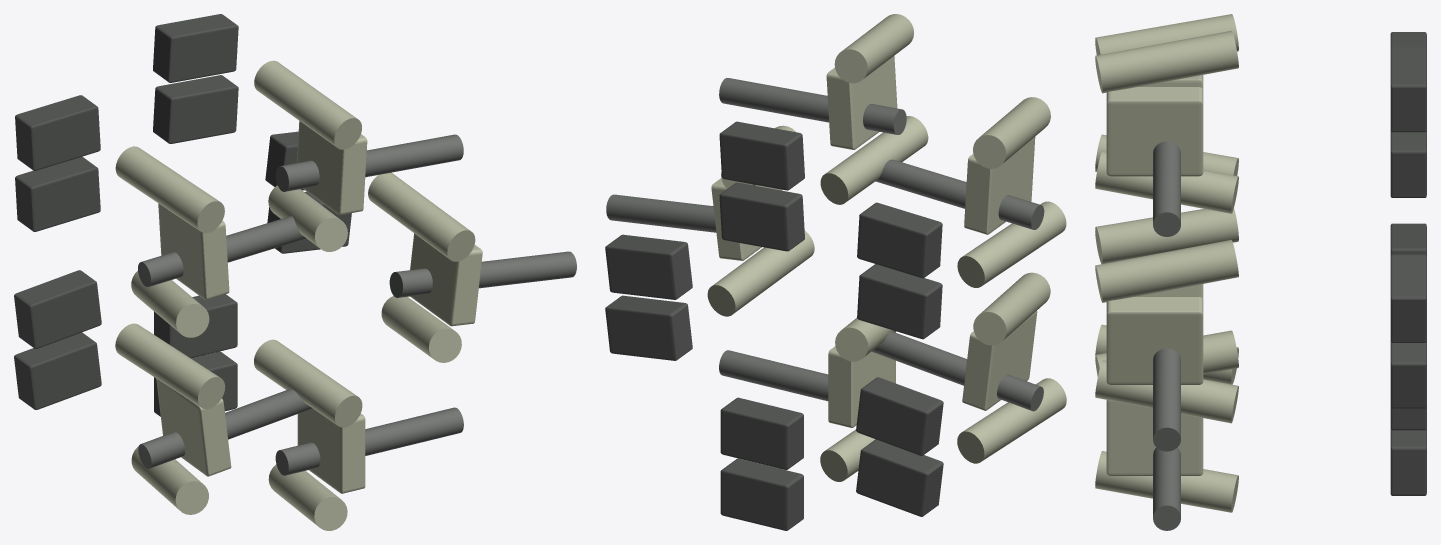
The model's file is v-u01-vanguard-line-infantry-lod2.glb.
3 renders of one model, left to right at view 1: azimuth 30°, elevation 25°; view 2: azimuth 150°, elevation 25°; view 3: azimuth 270°, elevation 25°, orthographic. The views are drawn at different scales.
Visible parts, largest first — view 1: soldier_4_boot_1, soldier_3_boot_1, soldier_3_boot_-1, soldier_1_boot_1, soldier_1_boot_-1, soldier_4_boot_-1, soldier_4_arm_1, soldier_3_arm_1, soldier_1_arm_1, soldier_0_arm_1, soldier_2_arm_1, soldier_4_chest (+18 smaller); view 2: soldier_4_boot_1, soldier_3_boot_1, soldier_2_boot_-1, soldier_2_boot_1, soldier_3_boot_-1, soldier_1_boot_-1, soldier_1_boot_1, soldier_4_boot_-1, soldier_0_boot_1, soldier_0_boot_-1, soldier_1_rifle, soldier_4_chest (+17 smaller); view 3: soldier_1_chest, soldier_0_chest, soldier_1_arm_1, soldier_0_arm_1, soldier_2_chest, soldier_4_arm_1, soldier_0_arm_-1, soldier_1_arm_-1, soldier_0_boot_1, soldier_2_arm_-1, soldier_1_boot_1, soldier_0_rifle (+14 smaller).
Boxes of the visible parts, x1,y1,x2,y2 form: soldier_4_boot_1: (14,270,101,348); soldier_3_boot_1: (15,95,100,170); soldier_3_boot_-1: (15,156,100,231); soldier_1_boot_1: (153,14,238,82); soldier_1_boot_-1: (153,75,238,143); soldier_4_boot_-1: (14,332,101,409); soldier_4_arm_1: (115,323,225,409); soldier_3_arm_1: (115,146,224,233); soldier_1_arm_1: (254,60,361,149); soldier_0_arm_1: (368,172,475,261); soldier_2_arm_1: (254,339,362,427); soldier_4_chest: (156,379,231,476); soldier_4_boot_1: (856,377,943,455); soldier_3_boot_1: (857,202,942,278); soldier_2_boot_-1: (720,458,803,530); soldier_2_boot_1: (720,397,803,469); soldier_3_boot_-1: (857,264,942,339); soldier_1_boot_-1: (719,182,804,251); soldier_1_boot_1: (719,121,804,190); soldier_4_boot_-1: (856,439,943,516); soldier_0_boot_1: (605,234,692,299); soldier_0_boot_-1: (605,295,692,360); soldier_1_rifle: (719,78,906,134); soldier_4_chest: (962,311,1037,410); soldier_1_chest: (1106,87,1203,176); soldier_0_chest: (1106,297,1203,384); soldier_1_arm_1: (1095,30,1238,93); soldier_0_arm_1: (1095,239,1238,302); soldier_2_chest: (1106,400,1203,475); soldier_4_arm_1: (1095,208,1238,263); soldier_0_arm_-1: (1095,360,1238,423); soldier_1_arm_-1: (1095,151,1238,213); soldier_0_boot_1: (1390,254,1426,342); soldier_2_arm_-1: (1095,451,1238,512); soldier_1_boot_1: (1390,46,1426,132); soldier_0_rifle: (1153,348,1180,451).
Size of what is drawn, in the model's own units: 2.7 by 2.57 by 1.65.
